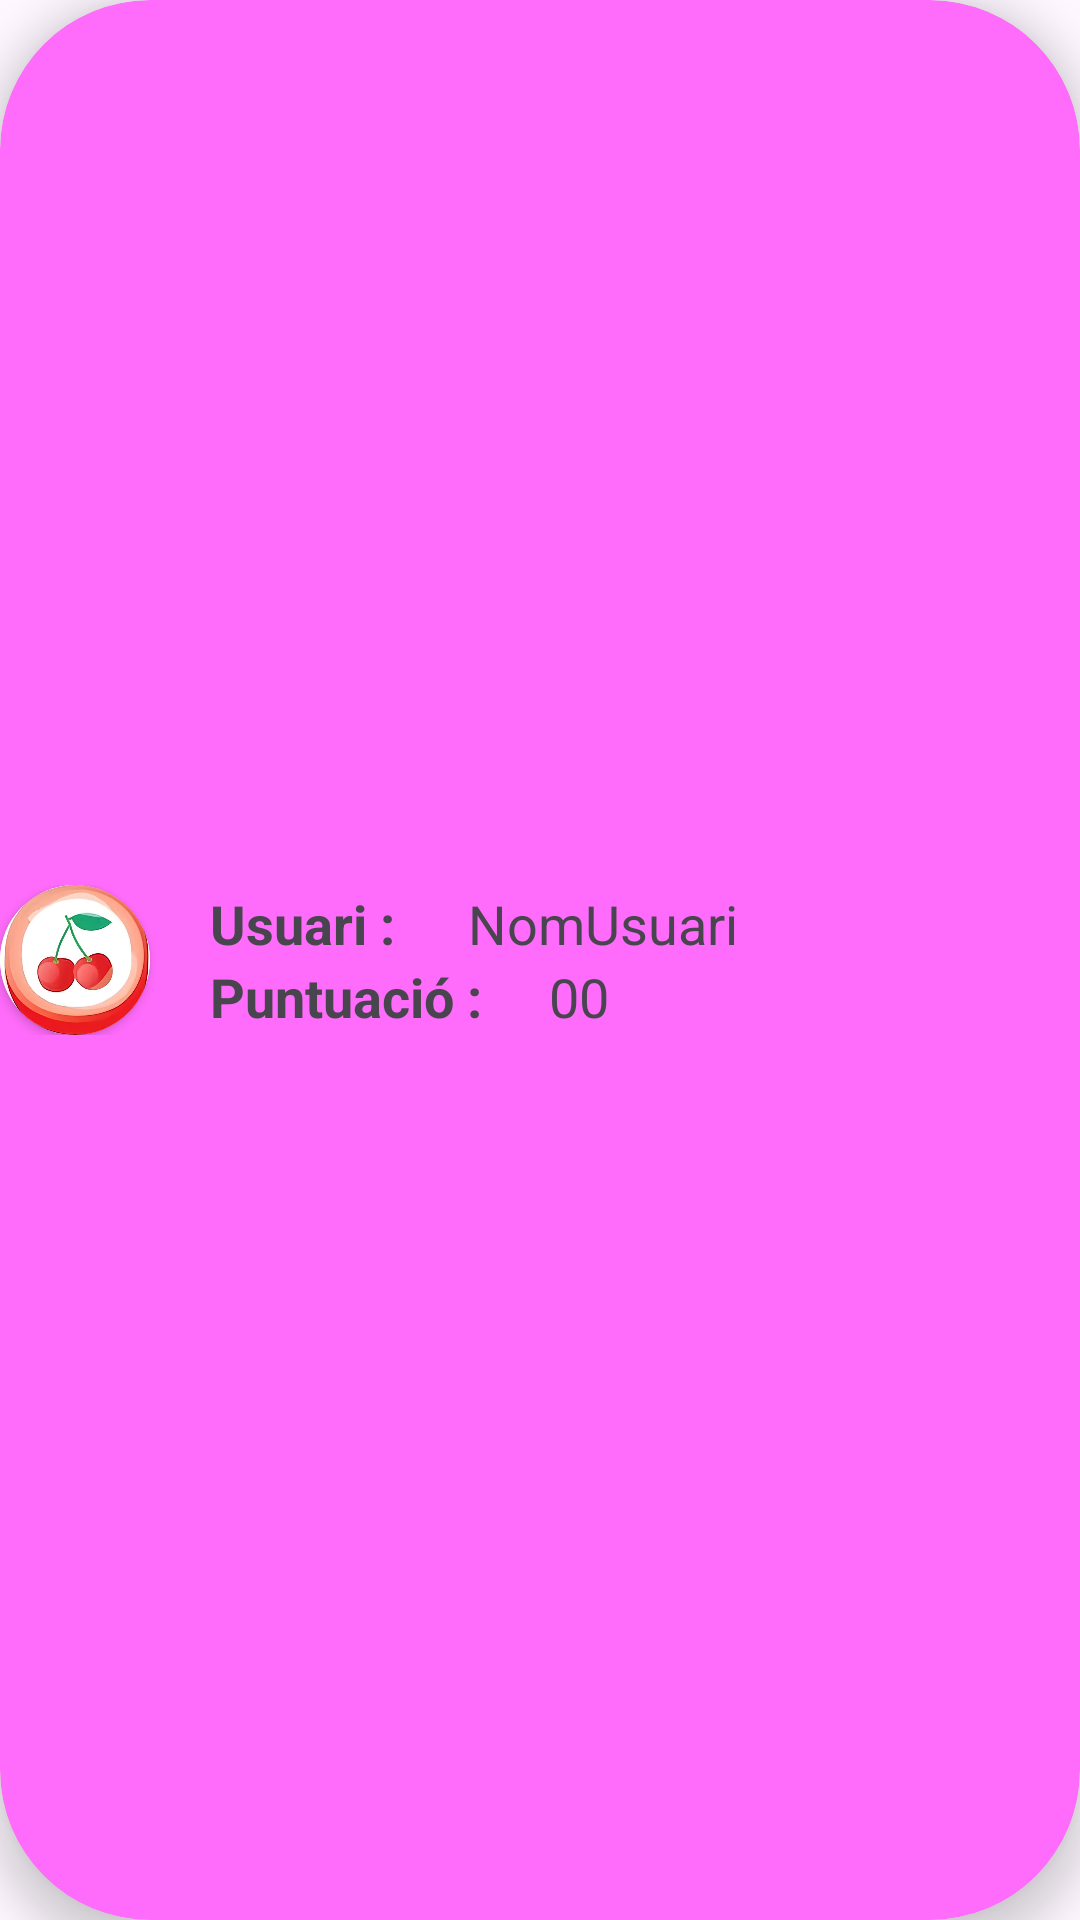

Named icons in this screenshot (1080px x 1920px) and their bounding boxes, Rect(x1, y1, x2, y2):
cereza: Rect(0, 885, 150, 1035)
